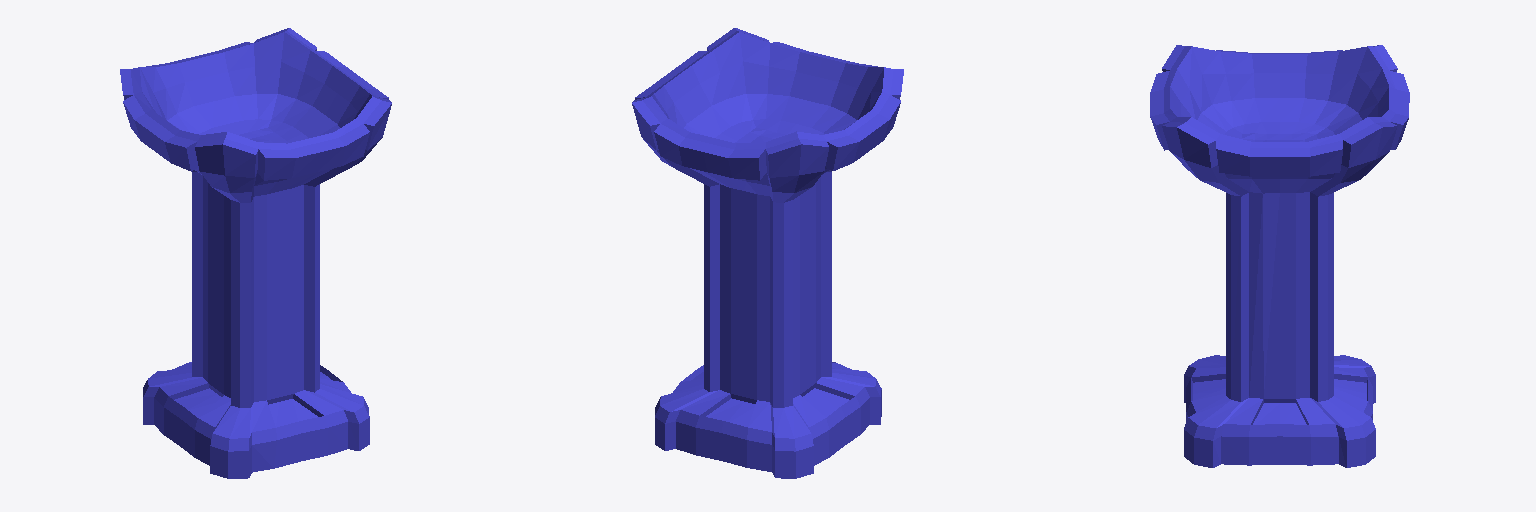
Rendered from LowPolyBurner.obj.
3 views of the same model, side by side, from view 1: azimuth 30°, elevation 25°; view 2: azimuth 150°, elevation 25°; view 3: azimuth 270°, elevation 25° (orthographic).
Parts seen in each view (by area): view 1: LowPoly; view 2: LowPoly; view 3: LowPoly.
Boxes of the visible parts, x1,y1,x2,y2 form: LowPoly: [120, 28, 391, 478]; LowPoly: [632, 28, 903, 478]; LowPoly: [1150, 45, 1409, 467].
Bounding box in the file's own units: 52.82 × 82.41 × 55.61.